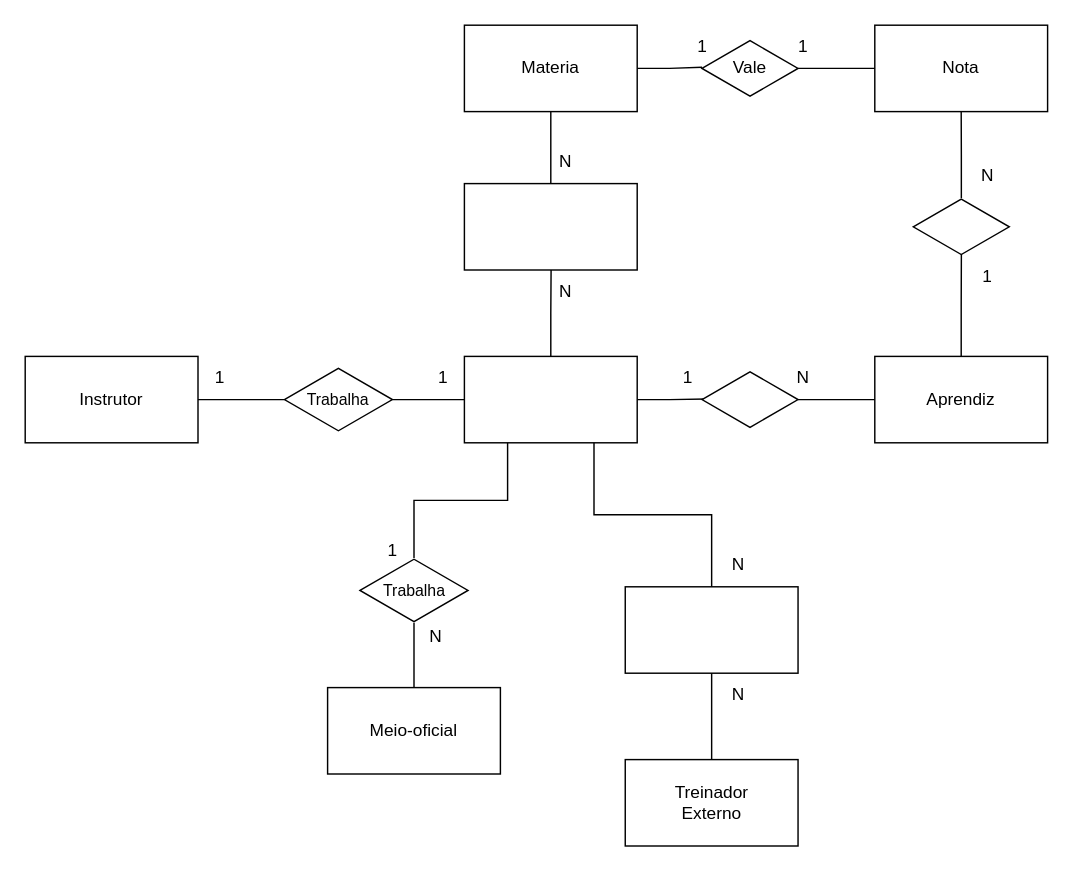
Some shapes in this 1073 by 871 pixel diagram are drawn without their labels. Here are the shapes that lost their labels. From the top down, the centre of each, then its label:
At [550,226]: "Matérias da Turma".
At [960,226]: "Possui".
At [550,399]: "Turma".
At [749,398]: "Estuda".
At [711,629]: "Treinadores da Turma".
